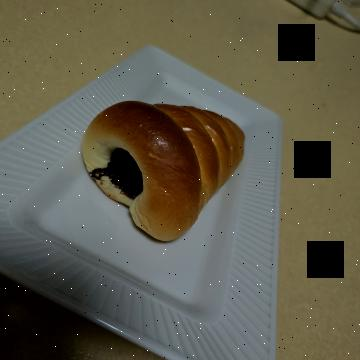cream horn: (70, 110, 262, 292)
